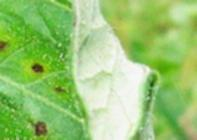Tomato Septoria leaf spot: (0, 0, 149, 140)
